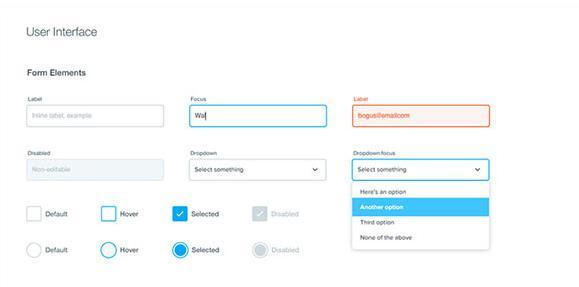checkbox: (253, 207, 269, 222), (173, 207, 188, 222), (103, 208, 117, 222), (28, 208, 42, 221)
dropdown: (353, 159, 491, 183), (191, 160, 327, 181)
input: (190, 105, 328, 128), (27, 106, 165, 128), (28, 160, 165, 182), (354, 106, 491, 126)
label: (272, 209, 302, 220), (351, 152, 398, 158), (192, 210, 222, 219), (192, 246, 222, 255), (272, 247, 302, 256), (25, 149, 53, 158), (45, 210, 71, 219), (188, 151, 221, 158), (189, 95, 211, 104), (45, 247, 71, 254), (121, 246, 140, 255), (121, 210, 142, 218), (352, 97, 374, 104), (28, 95, 46, 103)
radio: (100, 242, 118, 259), (173, 243, 190, 259), (27, 243, 42, 260), (253, 244, 269, 259)
